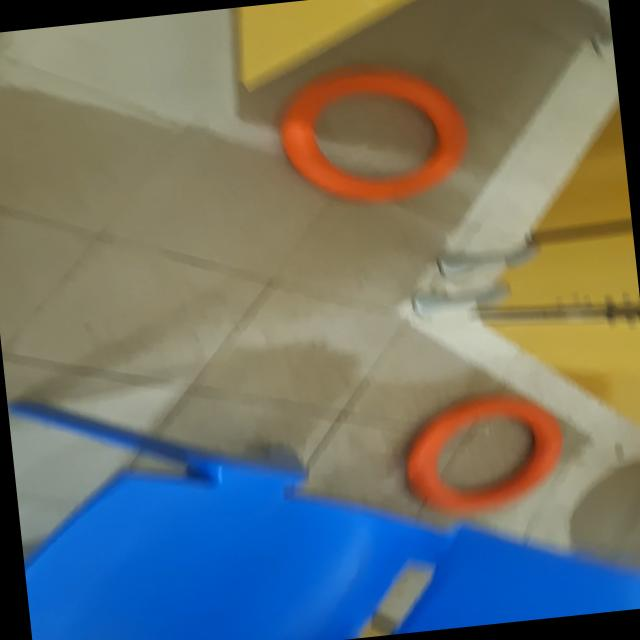note: (271, 52, 475, 214), (397, 385, 570, 520)
